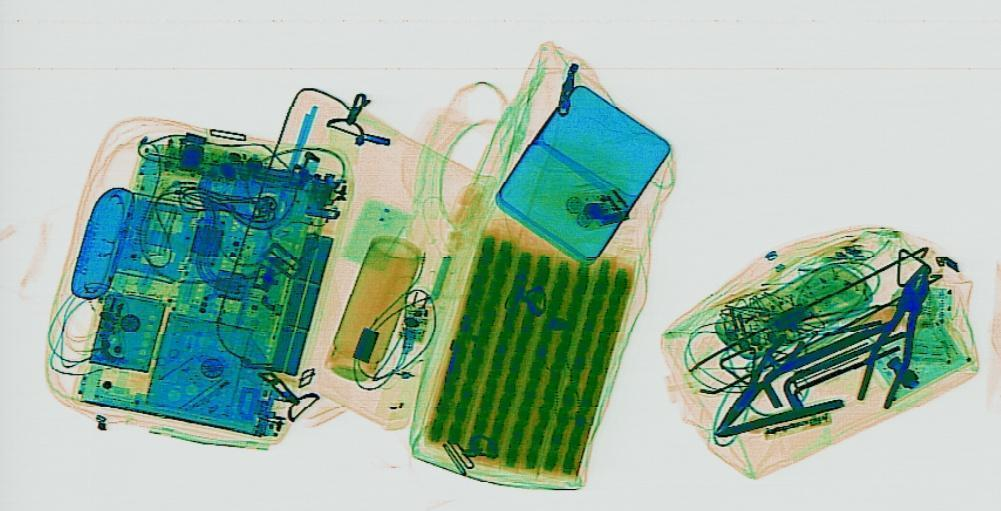Pliers: (846, 261, 944, 408), (702, 333, 808, 432)
